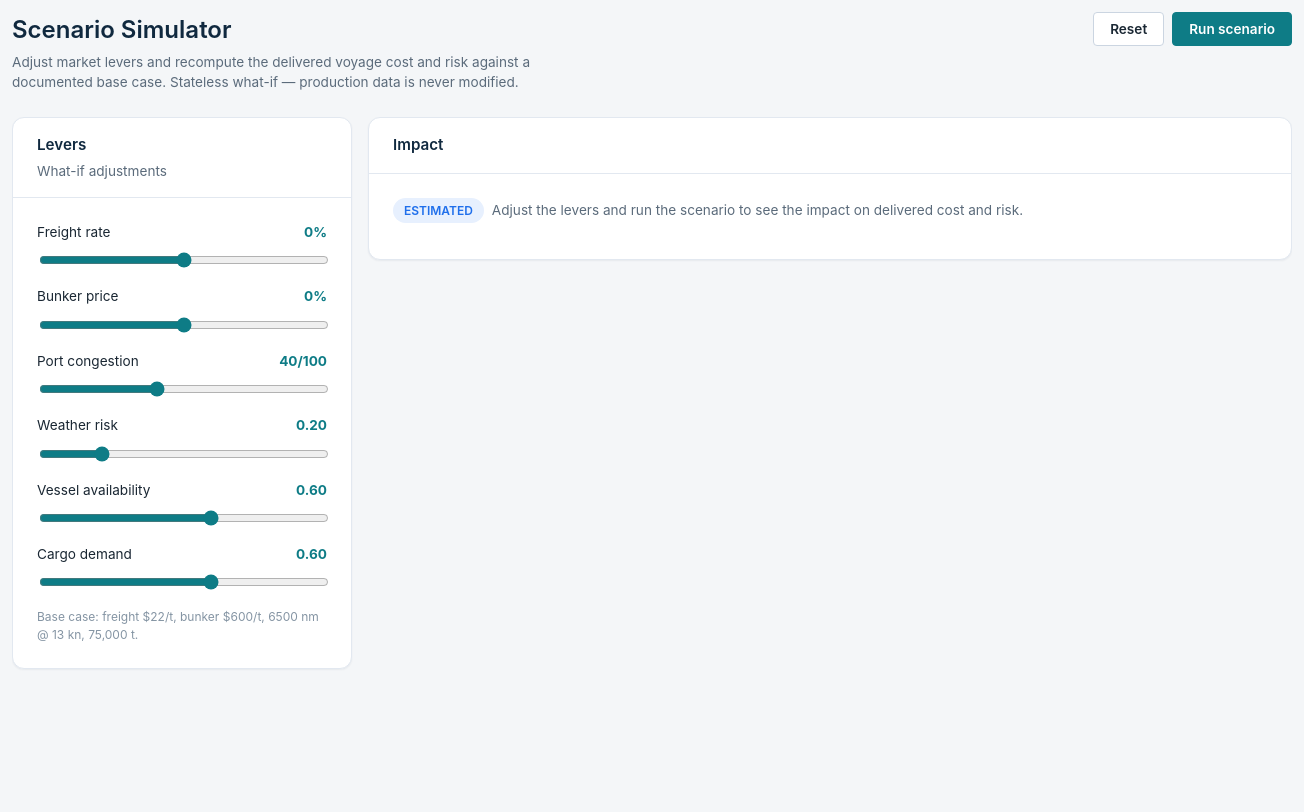
Test case: ScenariosPage › recomputes impact from the levers via backend compute endpoints
The image size is (1304, 812).
Click the button "Run scenario" at (1232, 29), box [1172,12,1292,46]
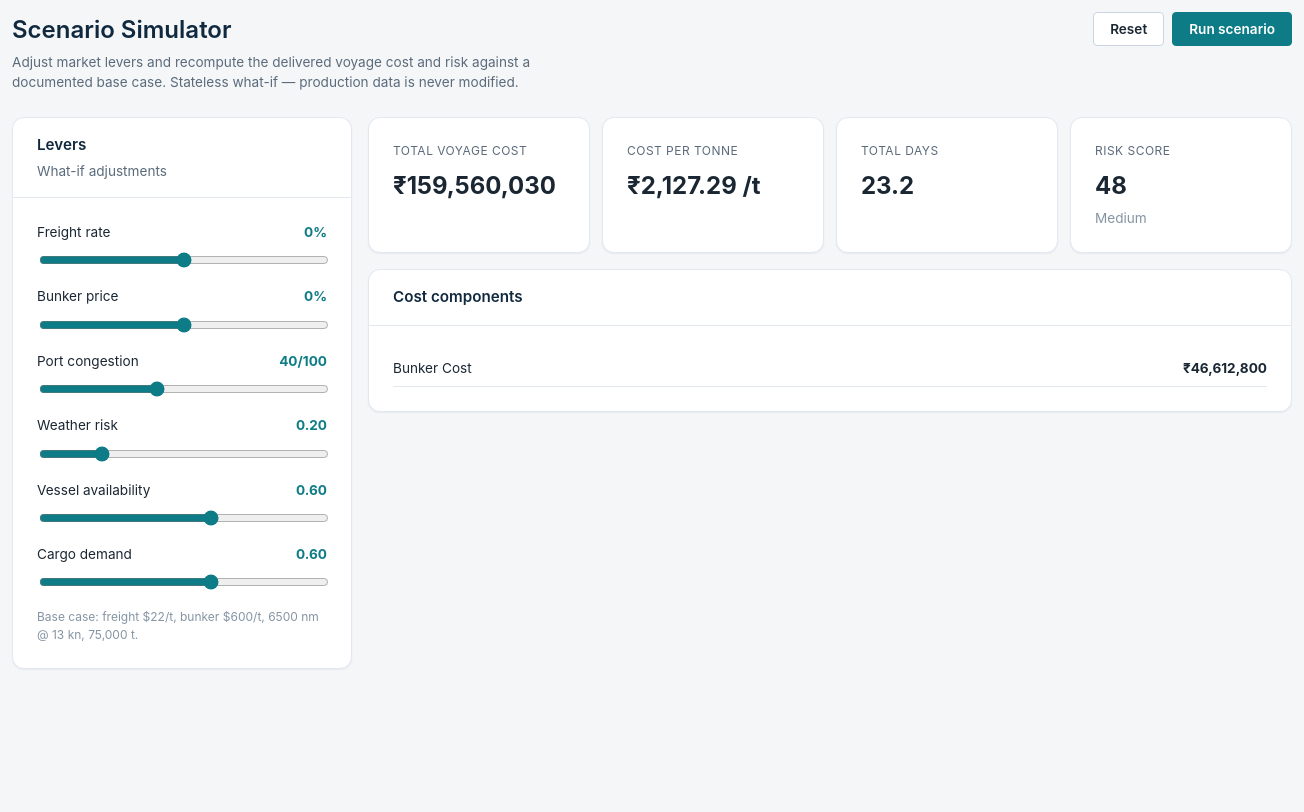
Now the text "Total voyage cost" is shown, box [393,142,527,160]
Now the text "Medium" is shown, box [1095,210,1147,226]
